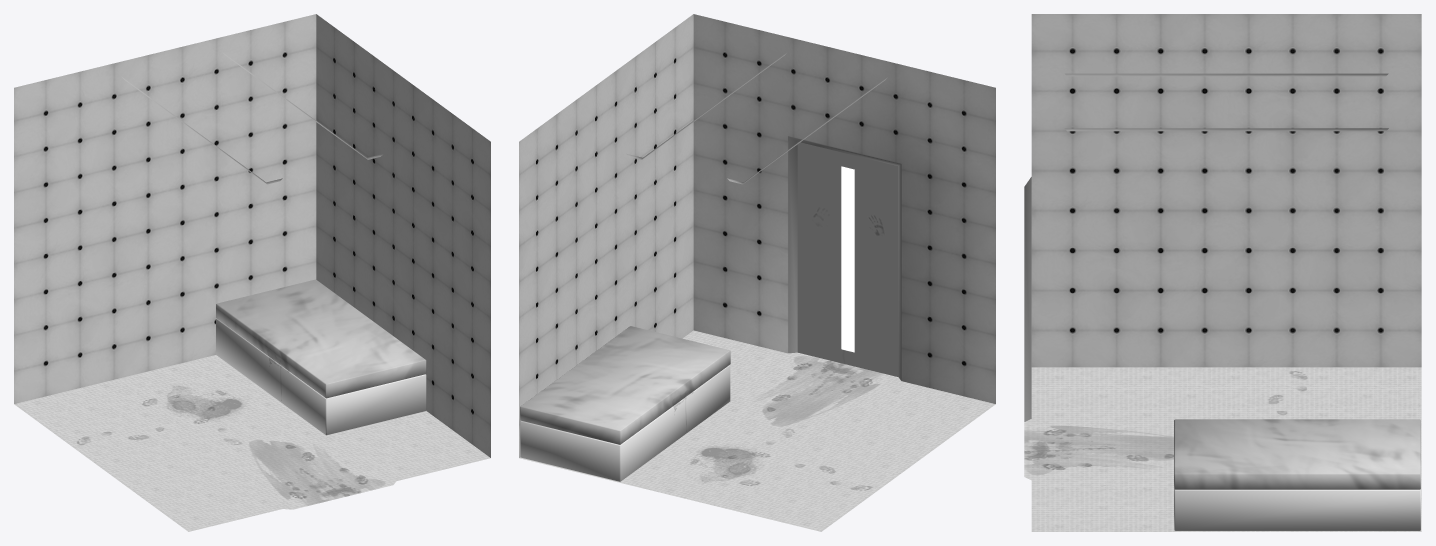
The model's file is 18_misfit_room_-_inktober2019.glb.
3 views of the same model, side by side, from view 1: azimuth 30°, elevation 25°; view 2: azimuth 150°, elevation 25°; view 3: azimuth 270°, elevation 25° (orthographic). The views are drawn at different scales.
Parts seen in each view (by area): view 1: Object_4, Object_3; view 2: Object_4, Object_2; view 3: Object_4.
Part boxes in pixels (left/top/right/bottom): Object_4: left=14, top=14, right=490, bottom=531; Object_3: left=14, top=14, right=316, bottom=403; Object_4: left=519, top=14, right=995, bottom=531; Object_2: left=841, top=166, right=854, bottom=352; Object_4: left=1024, top=14, right=1421, bottom=531.
Size of the model in its own units: 3 by 3 by 3.06.
Materials: 3 (3 with a texture image).
